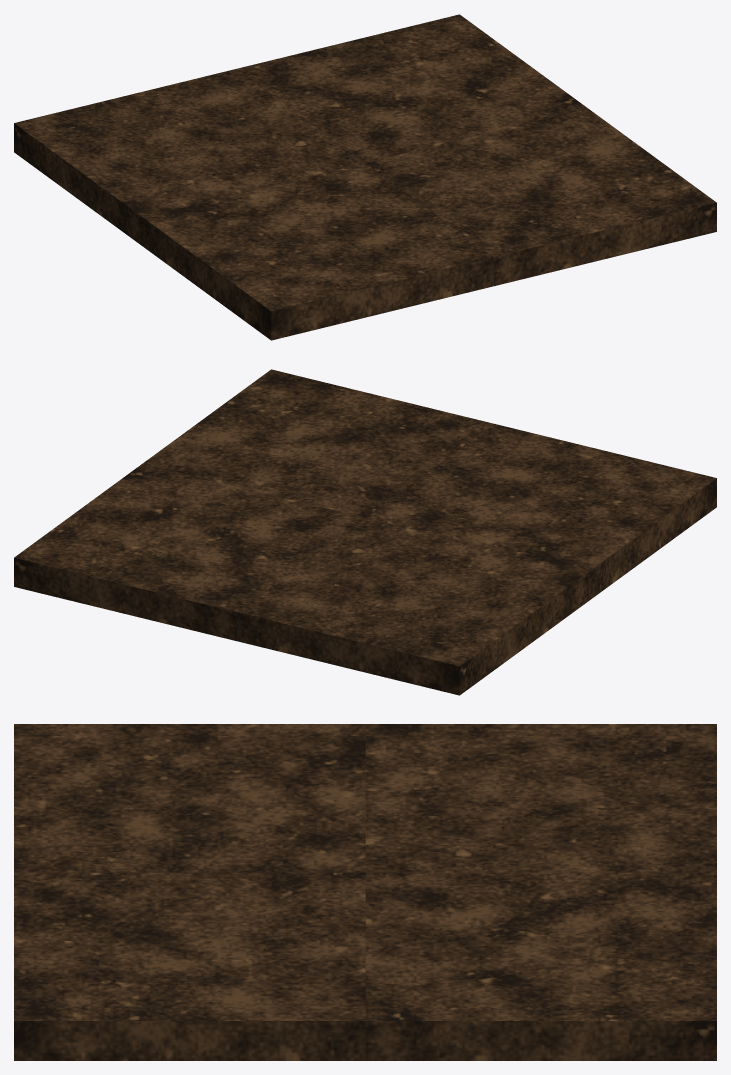
Rendered from wall_top_earth.glb.
The picture shows the model from 3 angles, top to bottom: view 1: azimuth 30°, elevation 25°; view 2: azimuth 150°, elevation 25°; view 3: azimuth 270°, elevation 25°; orthographic projection. The views are drawn at different scales.
Visible parts, largest first — view 1: crypt_wall_top_earth; view 2: crypt_wall_top_earth; view 3: crypt_wall_top_earth.
Part boxes in pixels (x1,y1,x2,y2): crypt_wall_top_earth: [14, 14, 716, 340]; crypt_wall_top_earth: [14, 369, 716, 695]; crypt_wall_top_earth: [14, 724, 716, 1060].
Size of the model in its own units: 1 by 0.0625 by 1.
1 material, 1 textured.
